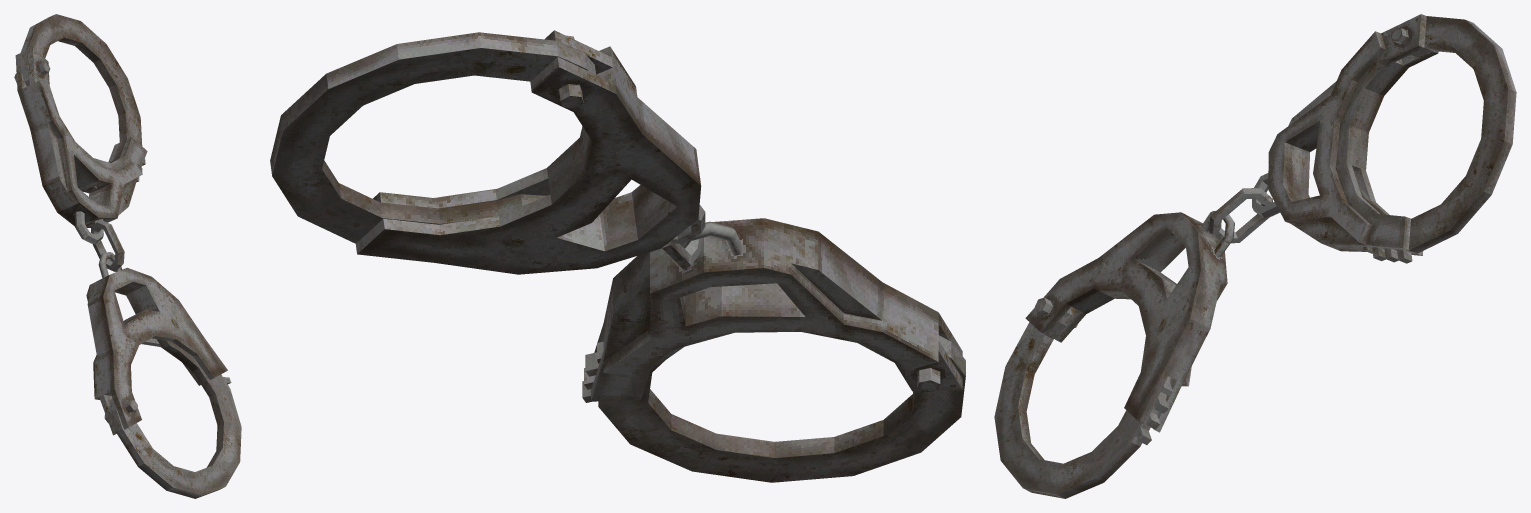
File: handcuffs_player bar2.glb
The picture shows the model from 3 angles, left to right: view 1: azimuth 30°, elevation 25°; view 2: azimuth 150°, elevation 25°; view 3: azimuth 270°, elevation 25°; orthographic projection. The views are drawn at different scales.
Visible parts, largest first — view 1: handcuffs dealer pivot2, hand cuffs dealer pivot1; view 2: handcuffs dealer pivot2, hand cuffs dealer pivot1; view 3: handcuffs dealer pivot2, hand cuffs dealer pivot1.
Part boxes in pixels (x1=…): handcuffs dealer pivot2: x1=14, y1=14, x2=227, y2=435; hand cuffs dealer pivot1: x1=109, y1=339, x2=241, y2=498; handcuffs dealer pivot2: x1=270, y1=30, x2=962, y2=401; hand cuffs dealer pivot1: x1=582, y1=335, x2=965, y2=482; handcuffs dealer pivot2: x1=1025, y1=14, x2=1516, y2=432; hand cuffs dealer pivot1: x1=994, y1=307, x2=1173, y2=498.
Bounding box in the file's own units: 1.99 × 3.62 × 3.71.
Materials: 1 (1 with a texture image).
